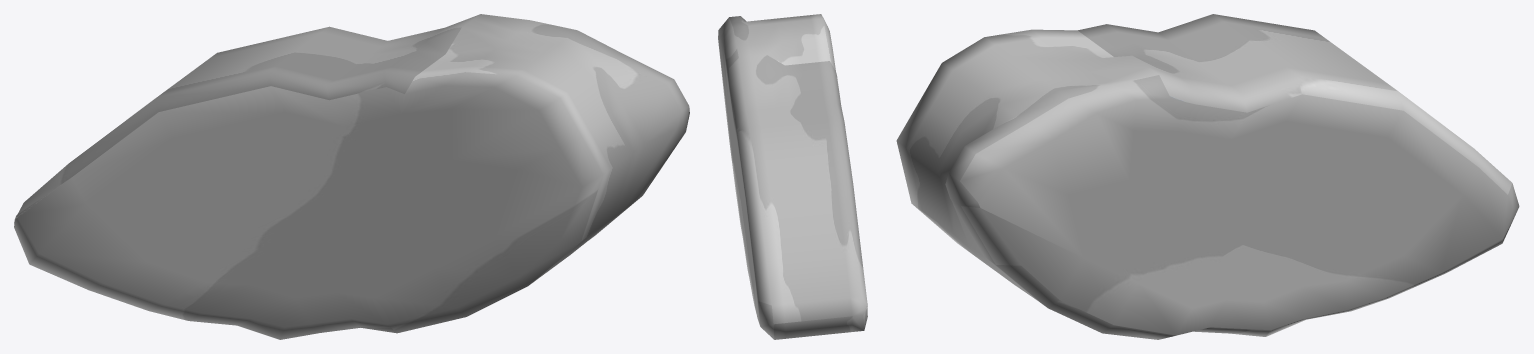
The model's file is Rock3.FBX.
The picture shows the model from 3 angles, left to right: view 1: azimuth 30°, elevation 25°; view 2: azimuth 150°, elevation 25°; view 3: azimuth 270°, elevation 25°; orthographic projection. The views are drawn at different scales.
Parts seen in each view (by area): view 1: Box082; view 2: Box082; view 3: Box082.
Boxes of the visible parts, box(x1,y1,x2,y2) form: Box082: box(14, 14, 689, 339); Box082: box(718, 14, 867, 339); Box082: box(896, 14, 1519, 339).
Size of the model in its own units: 64.92 by 42.04 by 74.42.
1 material, 1 textured.
